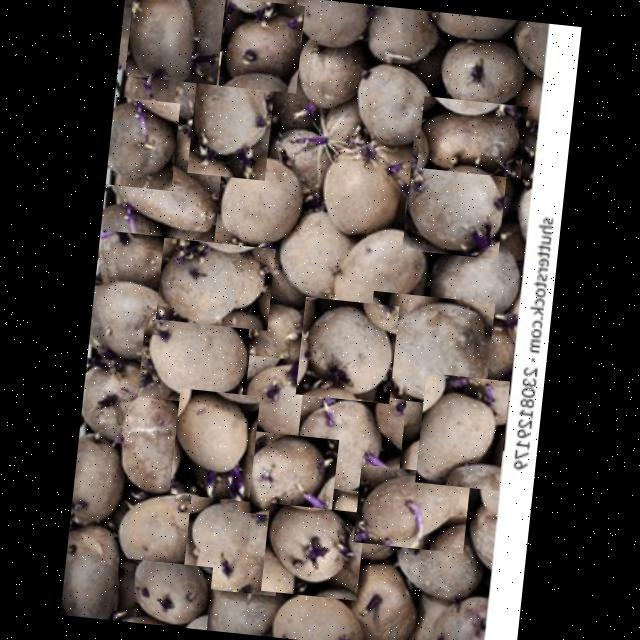Sprouted potato: (362, 290, 494, 408), (402, 137, 509, 258), (186, 48, 278, 179), (293, 388, 406, 493), (324, 220, 434, 326), (137, 304, 250, 406), (156, 236, 276, 330), (414, 372, 510, 489), (295, 296, 399, 402), (100, 151, 222, 240), (110, 368, 193, 496), (353, 463, 471, 552), (169, 386, 260, 501), (260, 502, 366, 600), (182, 494, 284, 594), (100, 478, 210, 570), (346, 52, 437, 162), (210, 146, 307, 246), (85, 272, 180, 373), (317, 132, 404, 240), (236, 429, 338, 520), (417, 95, 528, 177), (288, 22, 374, 126), (124, 0, 226, 84), (241, 354, 337, 441), (218, 0, 305, 92), (428, 34, 526, 114), (112, 556, 212, 630), (336, 556, 423, 640), (105, 96, 180, 190)
